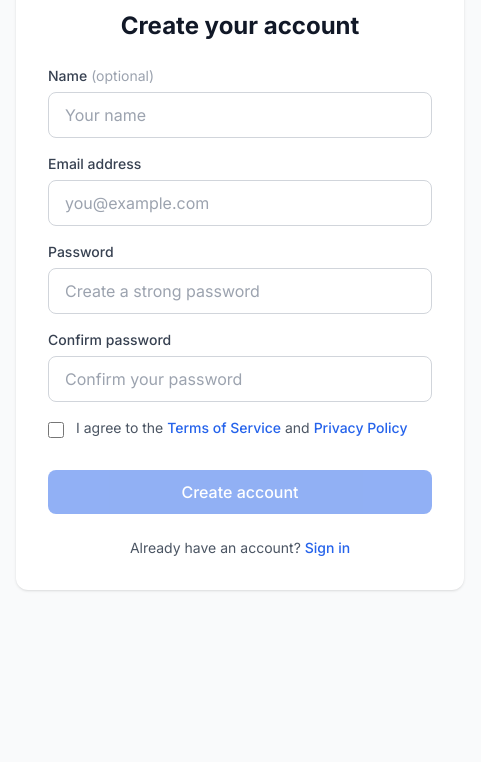
Test: SignupForm › shows Strong strength for a complex password
Type "AbcDefgh12345!" into the password field labelled "Password" at [240, 291], box [48,268,432,314]
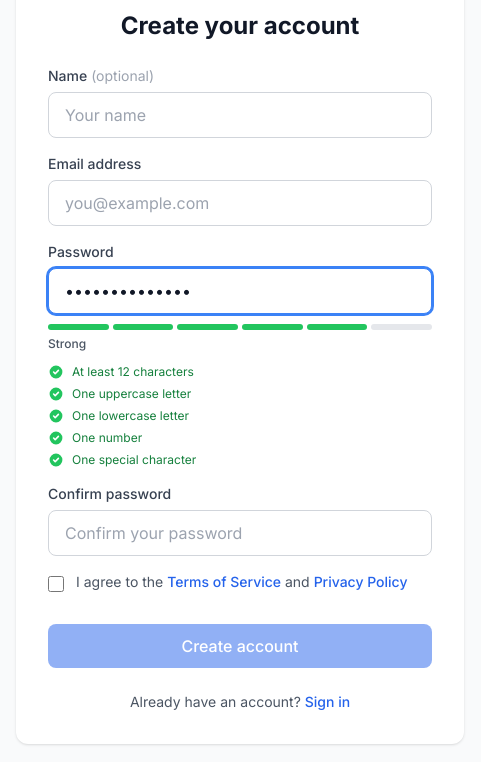
Expected: the text "Strong" is shown, [48,336,86,351]
